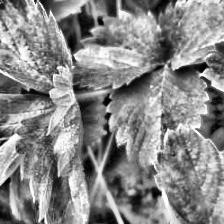Powdery Mildew Leaf: (13, 66, 91, 224), (153, 124, 224, 224), (0, 0, 74, 95)
